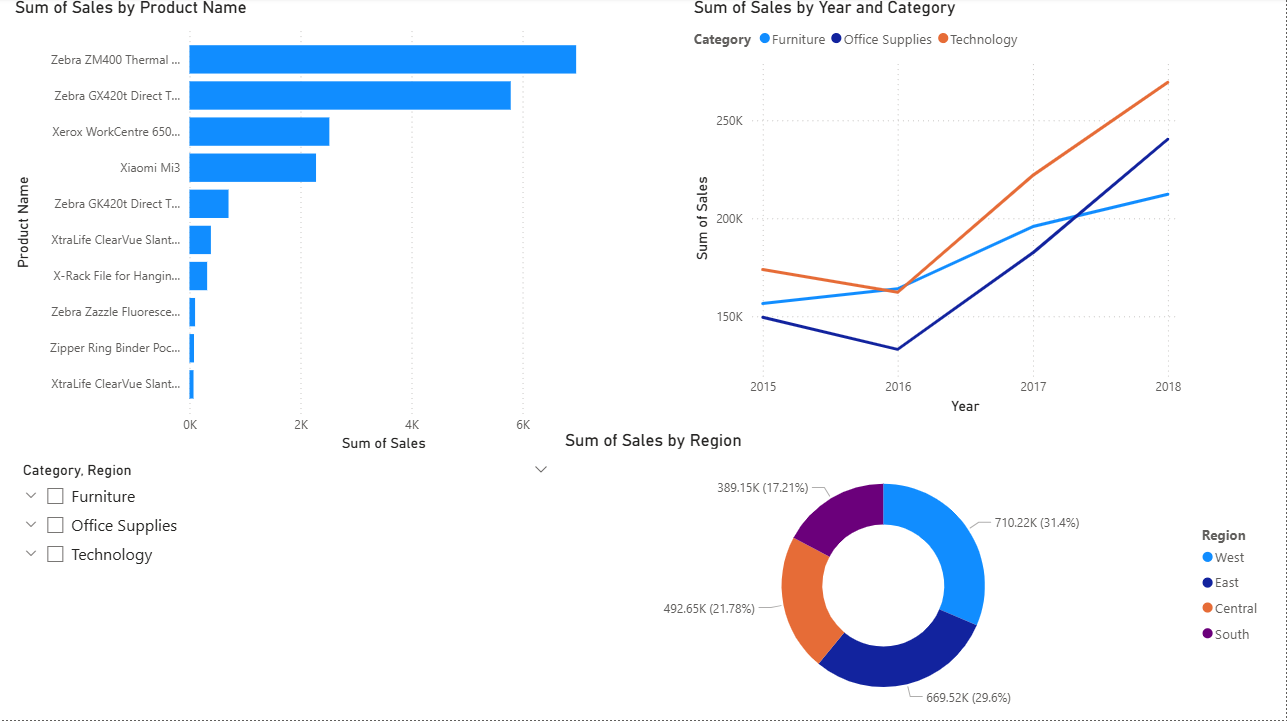

The page's visual inventory and layout, read from the dashboard file:
{"tool":"powerbi","page":{"name":"Page 1","canvas":[1280,720],"ordinal":0},"visuals":[{"type":"barChart","fields":{"Category":["train.Product Name"],"Y":["Sum(train.Sales)"]},"box":[10,0,577.5,457.5],"z":0},{"type":"lineChart","fields":{"Category":["train.Order Date.Variation.Date Hierarchy.Year","train.Order Date.Variation.Date Hierarchy.Quarter","train.Order Date.Variation.Date Hierarchy.Month","train.Order Date.Variation.Date Hierarchy.Day"],"Y":["Sum(train.Sales)"],"Series":["train.Category"]},"box":[685,0,495,420],"z":1000},{"type":"donutChart","fields":{"Category":["train.Region"],"Y":["Sum(train.Sales)"]},"box":[557.5,430,708.8,290],"z":3000},{"type":"slicer","fields":{"Values":["train.Category","train.Region"]},"box":[10,457.5,547.5,252.5],"z":3001}]}

Visuals, with their boxes in screenshot pixels (x1, y1, x2, y2), scaled from the page's 1280x720 canvas onto the 1287x721 screenshot:
barChart - train.Product Name x Sum(train.Sales): 10, 0, 591, 458
lineChart - train.Order Date.Variation.Date Hierarchy.Year x train.Order Date.Variation.Date Hierarchy.Quarter: 689, 0, 1186, 421
donutChart - train.Region x Sum(train.Sales): 561, 431, 1273, 720
slicer - train.Category x train.Region: 10, 458, 561, 711
